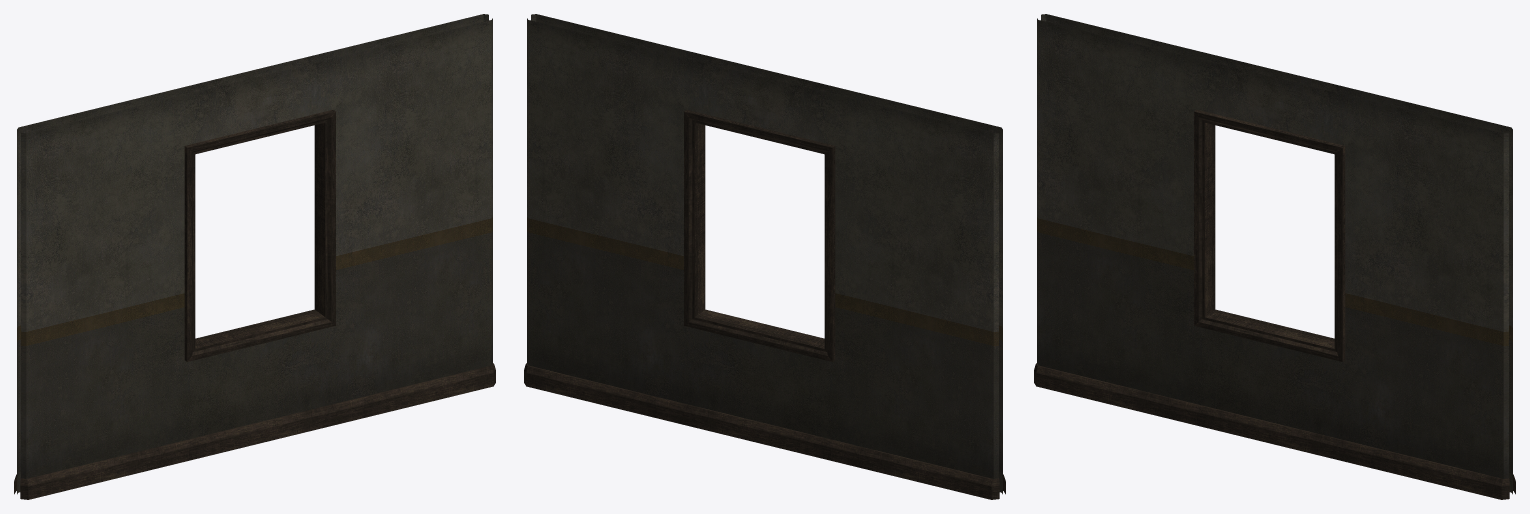
File: window_2_single_frame_only.obj
3 renders of one model, left to right at view 1: azimuth 30°, elevation 25°; view 2: azimuth 150°, elevation 25°; view 3: azimuth 330°, elevation 25°, orthographic.
Visible parts, largest first — view 1: window_2_single_frame_only; view 2: window_2_single_frame_only; view 3: window_2_single_frame_only.
Boxes of the visible parts, x1,y1,x2,y2 form: window_2_single_frame_only: [14, 14, 495, 499]; window_2_single_frame_only: [524, 14, 1005, 499]; window_2_single_frame_only: [1034, 14, 1515, 499].
Size of the model in its own units: 4.09 by 3 by 0.2.
